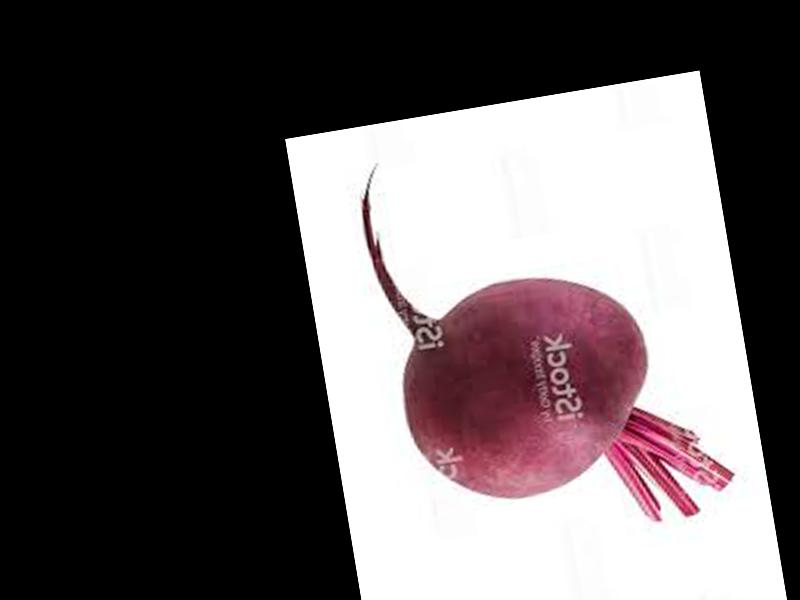Beet: (357, 115, 739, 561)
